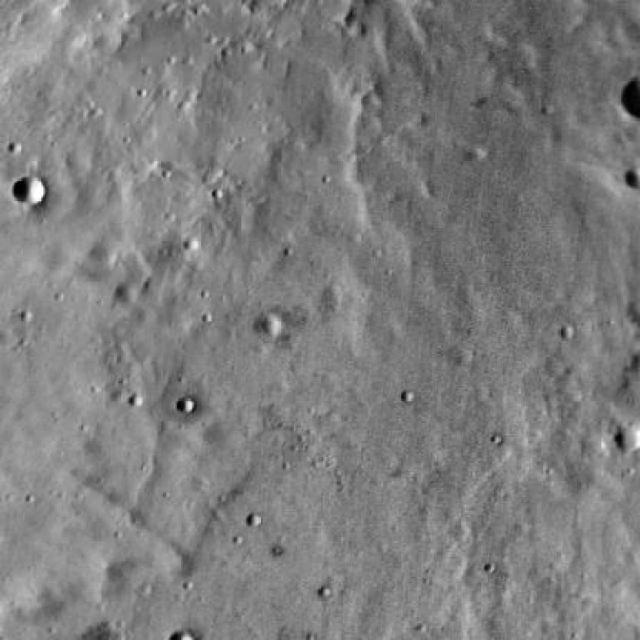crater: (15, 180, 47, 208), (615, 427, 640, 451), (257, 313, 278, 333), (177, 397, 194, 412)
